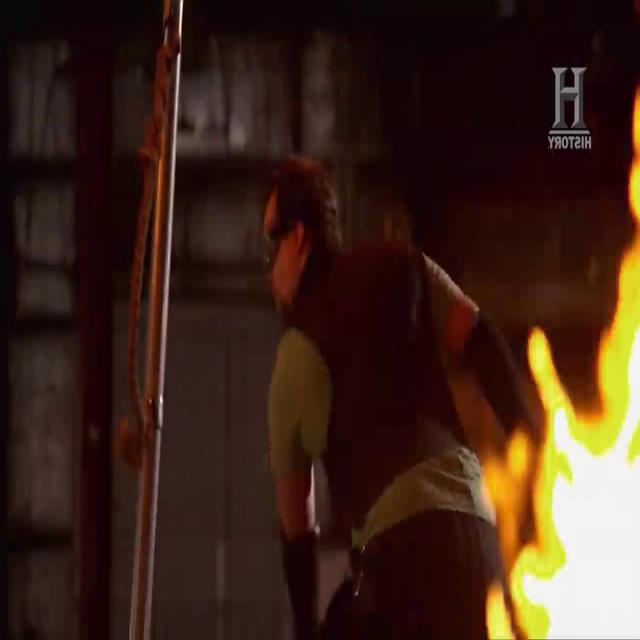fire: (485, 100, 640, 640)
